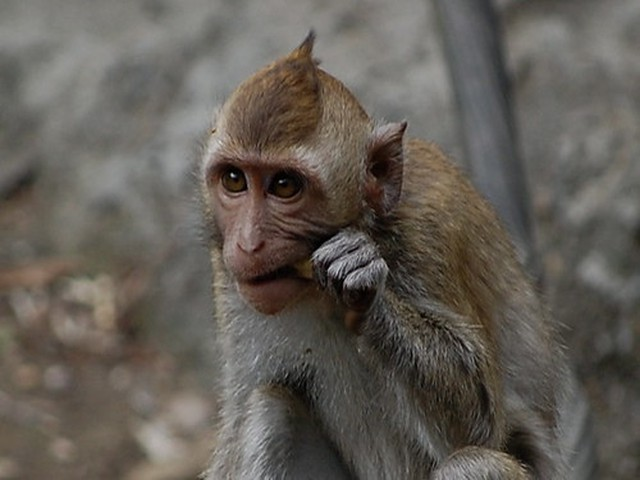Monkey: (198, 27, 587, 480)
